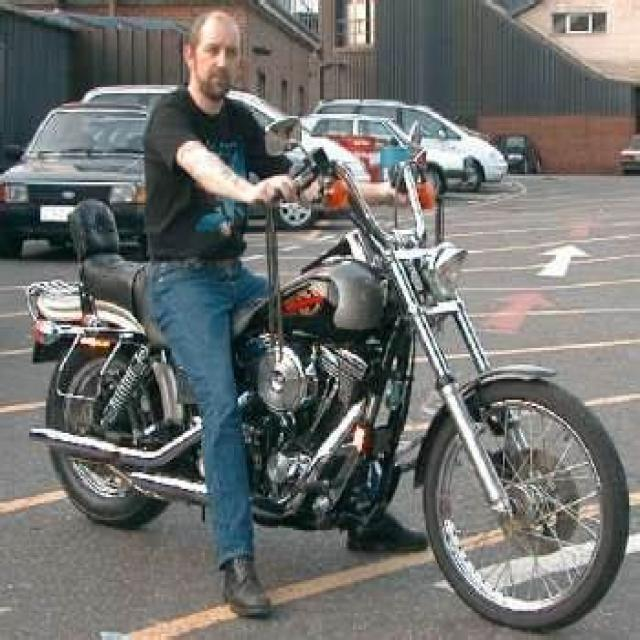Not Wearing Helmet: (163, 26, 283, 140)
